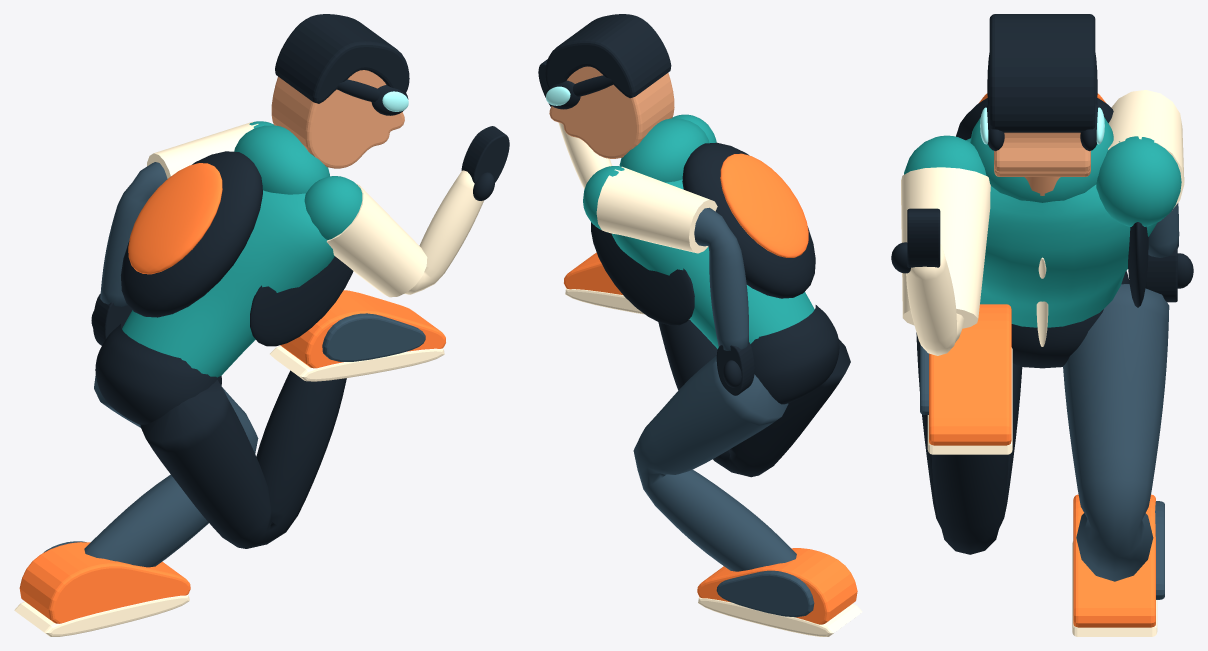
The model's file is skystride-runner.glb.
3 views of the same model, side by side, from view 1: azimuth 30°, elevation 25°; view 2: azimuth 150°, elevation 25°; view 3: azimuth 270°, elevation 25° (orthographic). The views are drawn at different scales.
Parts seen in each view (by area): view 1: Runner_Part_06, Runner_Part_00, Courier_Backpack, Runner_Part_11, Runner_Part_03, Runner_Part_02, Runner_Part_05, Backpack_Orange_Panel, Runner_Part_01, Runner_Part_22, Shoulder_Strap, Folded_Hood (+10 smaller); view 2: Runner_Part_05, Runner_Part_06, Runner_Part_03, Runner_Part_21, Runner_Part_02, Backpack_Orange_Panel, Courier_Backpack, Runner_Part_00, Runner_Part_01, Runner_Part_07, Shoulder_Strap, Runner_Part_11 (+9 smaller); view 3: Runner_Part_05, Runner_Part_00, Runner_Part_03, Runner_Part_12, Runner_Part_22, Runner_Part_06, Runner_Part_09, Runner_Part_11, Runner_Part_02, Runner_Part_08, Runner_Part_21, Folded_Hood (+15 smaller).
Part boxes in pixels (x1=…): Runner_Part_06: x1=140, y1=370, x2=346, y2=548; Runner_Part_00: x1=122, y1=190, x2=334, y2=377; Courier_Backpack: x1=121, y1=151, x2=262, y2=317; Runner_Part_11: x1=19, y1=542, x2=190, y2=623; Runner_Part_03: x1=275, y1=14, x2=409, y2=103; Runner_Part_02: x1=271, y1=70, x2=404, y2=168; Runner_Part_05: x1=84, y1=375, x2=258, y2=567; Backpack_Orange_Panel: x1=128, y1=163, x2=222, y2=274; Runner_Part_01: x1=95, y1=324, x2=221, y2=424; Runner_Part_22: x1=326, y1=183, x2=427, y2=297; Shoulder_Strap: x1=250, y1=256, x2=353, y2=346; Folded_Hood: x1=234, y1=125, x2=329, y2=194; Runner_Part_05: x1=633, y1=356, x2=796, y2=571; Runner_Part_06: x1=658, y1=319, x2=850, y2=477; Runner_Part_03: x1=545, y1=14, x2=671, y2=98; Runner_Part_21: x1=596, y1=166, x2=717, y2=253; Runner_Part_02: x1=549, y1=66, x2=674, y2=158; Backpack_Orange_Panel: x1=720, y1=153, x2=808, y2=257; Courier_Backpack: x1=682, y1=142, x2=815, y2=298; Runner_Part_00: x1=612, y1=179, x2=814, y2=348; Runner_Part_01: x1=750, y1=305, x2=839, y2=404; Runner_Part_07: x1=694, y1=207, x2=748, y2=350; Shoulder_Strap: x1=591, y1=222, x2=694, y2=325; Runner_Part_11: x1=697, y1=548, x2=857, y2=624; Runner_Part_05: x1=1063, y1=284, x2=1169, y2=581; Runner_Part_00: x1=966, y1=138, x2=1156, y2=327; Runner_Part_03: x1=989, y1=14, x2=1095, y2=132; Runner_Part_12: x1=929, y1=304, x2=1011, y2=445; Runner_Part_22: x1=901, y1=167, x2=990, y2=328; Runner_Part_06: x1=916, y1=332, x2=1022, y2=554; Runner_Part_09: x1=1096, y1=136, x2=1181, y2=226; Runner_Part_11: x1=1073, y1=494, x2=1155, y2=627; Runner_Part_02: x1=994, y1=132, x2=1090, y2=176; Runner_Part_08: x1=906, y1=244, x2=964, y2=355; Runner_Part_21: x1=1108, y1=90, x2=1184, y2=208; Folded_Hood: x1=970, y1=117, x2=1113, y2=202.
Bounding box in the file's own units: 1.14 × 1.52 × 0.586.
